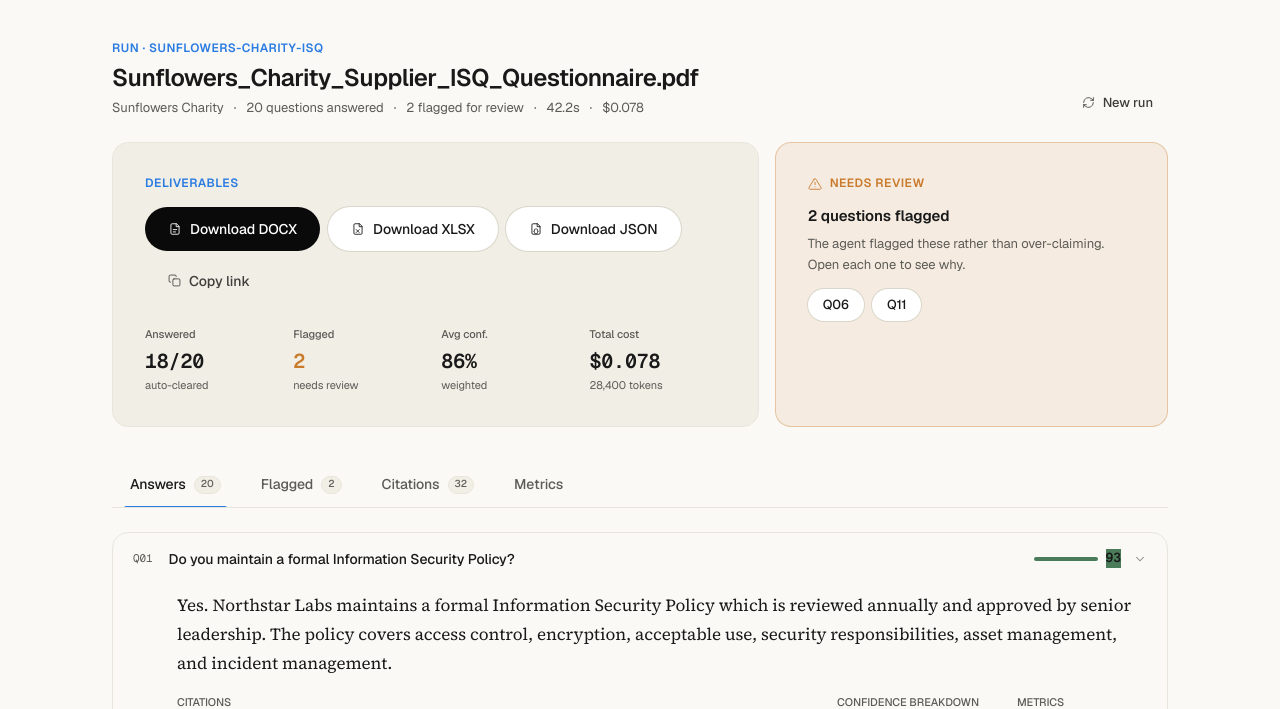
ResultsPage — tabs › shows per-question telemetry on the Metrics tab
This screenshot has width=1280, height=709.
expect the text "Run · sunflowers-charity-isq" is shown: met, box [112, 40, 324, 56]
Click the tab "Metrics". click: (539, 484)
box: [496, 462, 581, 506]
(page scrolled)
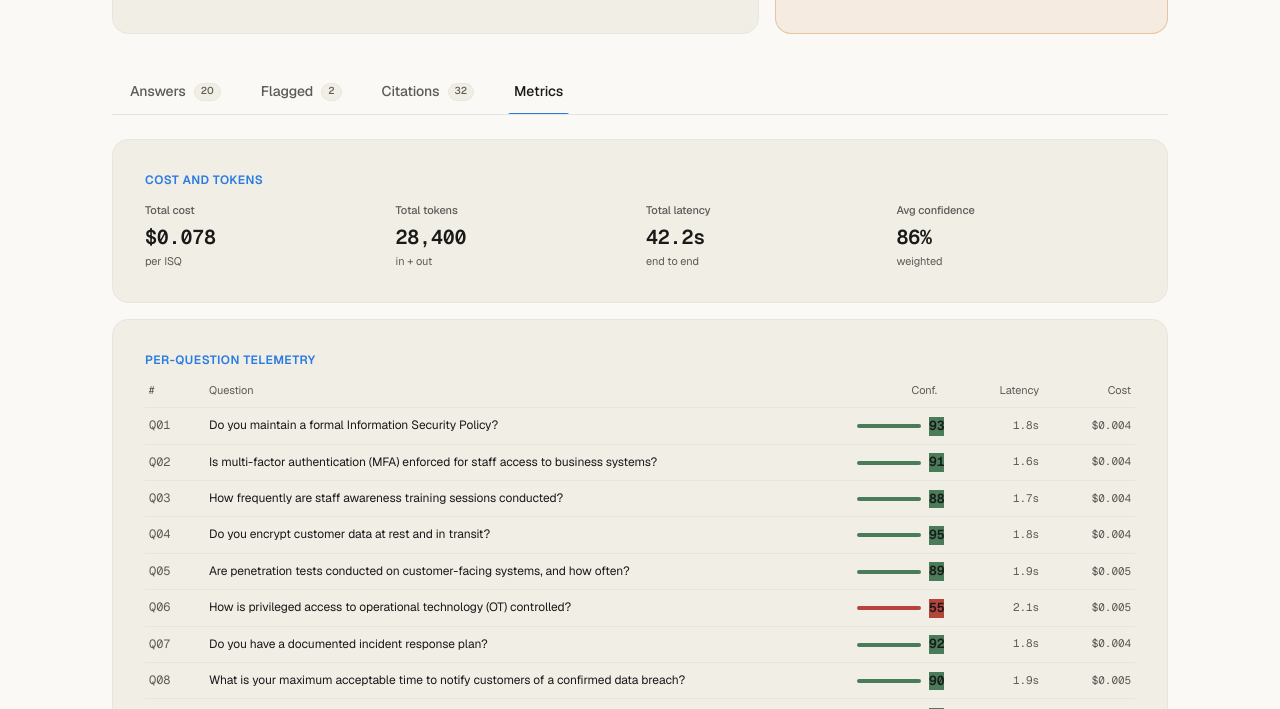
expect the text "Per-question telemetry" is shown: met, box [145, 352, 316, 368]
